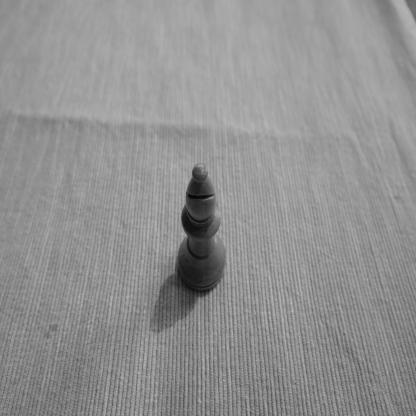white-bishop: (177, 162, 227, 293)
